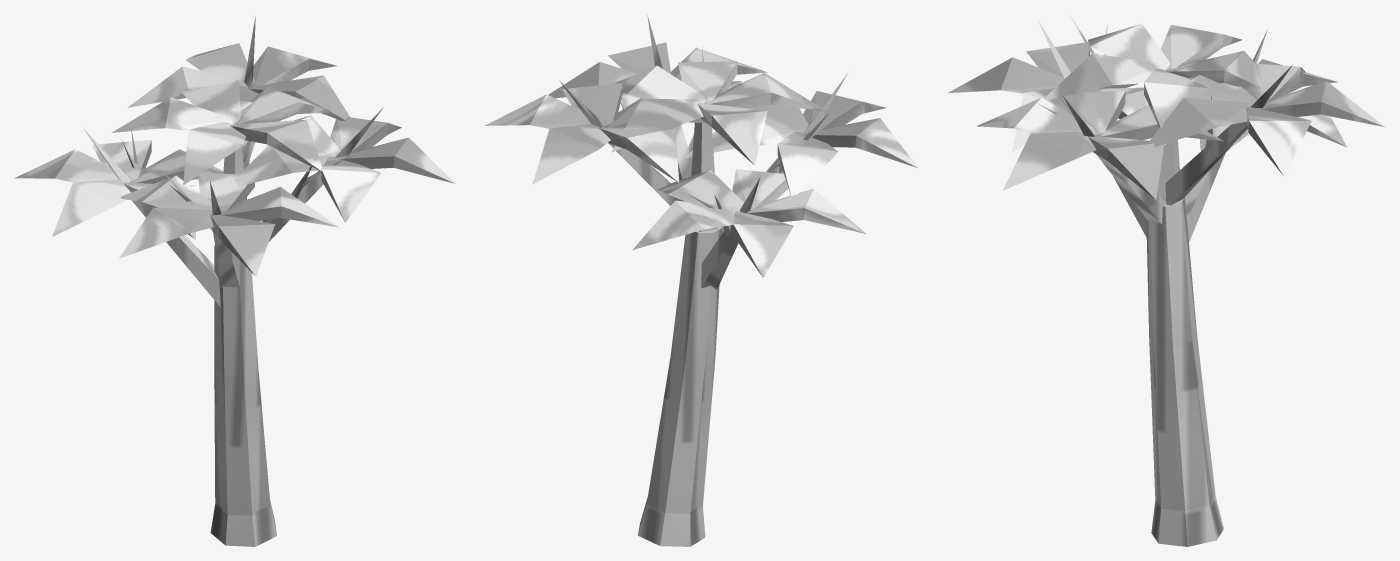
File: tree_cecropia_1.obj
3 views of the same model, side by side, from view 1: azimuth 30°, elevation 25°; view 2: azimuth 150°, elevation 25°; view 3: azimuth 270°, elevation 25° (orthographic). The views are drawn at different scales.
Visible parts, largest first — view 1: tree_cecropia_1; view 2: tree_cecropia_1; view 3: tree_cecropia_1.
Boxes of the visible parts, x1,y1,x2,y2 form: tree_cecropia_1: (14,14,455,546); tree_cecropia_1: (484,15,918,546); tree_cecropia_1: (947,16,1385,546).
Size of the model in its own units: 0.7268 by 0.9717 by 0.7639.
